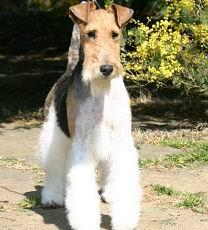wire-haired_fox_terrier: (35, 0, 146, 229)
